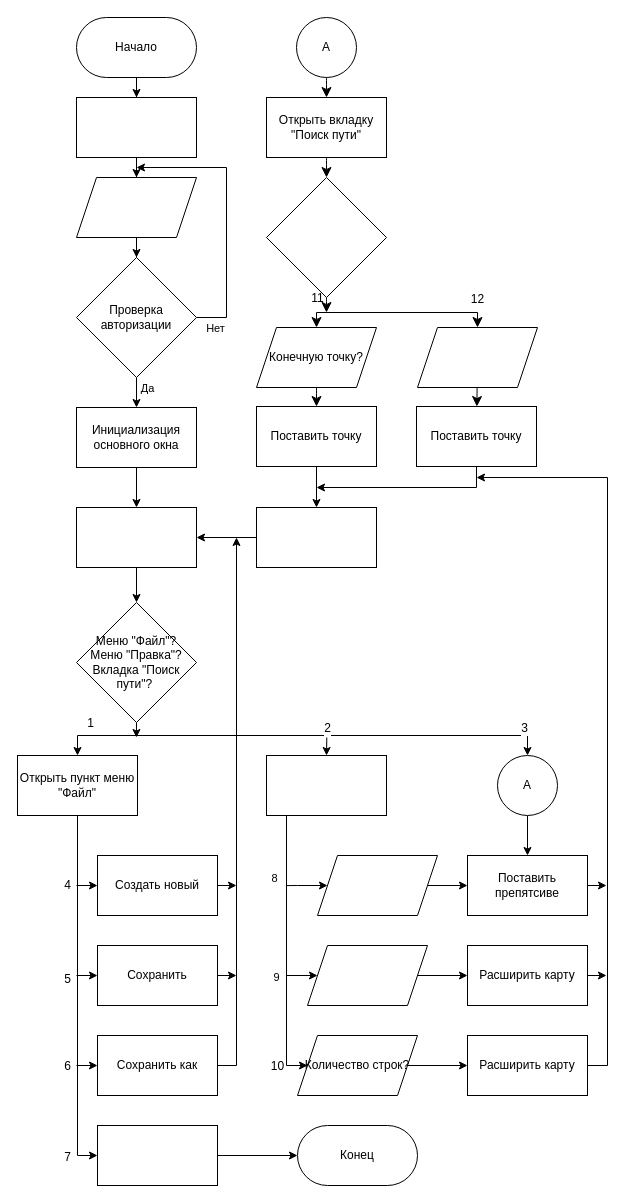
Image size: 633x1203. Some labels were removed from this diagram. Here are the shapes that lost their labels. From the top down, the box of each, then its label:
(76, 96, 196, 158): Чтение конфигурации приложения
(76, 176, 196, 238): Ввод учетных данных
(266, 176, 386, 298): Выберите точку
(416, 326, 538, 388): Начальную точку?
(76, 506, 196, 568): Отобразить карту
(256, 506, 376, 568): Обновить путь
(266, 754, 386, 816): Открыть вкладку "Редактирование"
(316, 854, 438, 916): Препятсвие на?
(306, 944, 428, 1006): Количество столбцов?
(96, 1124, 218, 1186): Выход
